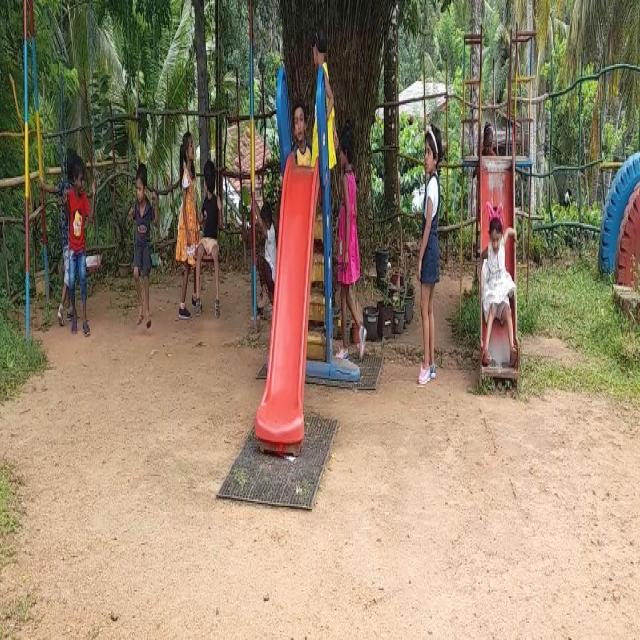child: (410, 115, 448, 395), (336, 116, 365, 366), (64, 139, 98, 332), (171, 126, 201, 326), (128, 142, 156, 328), (482, 204, 513, 366), (200, 134, 224, 326)
